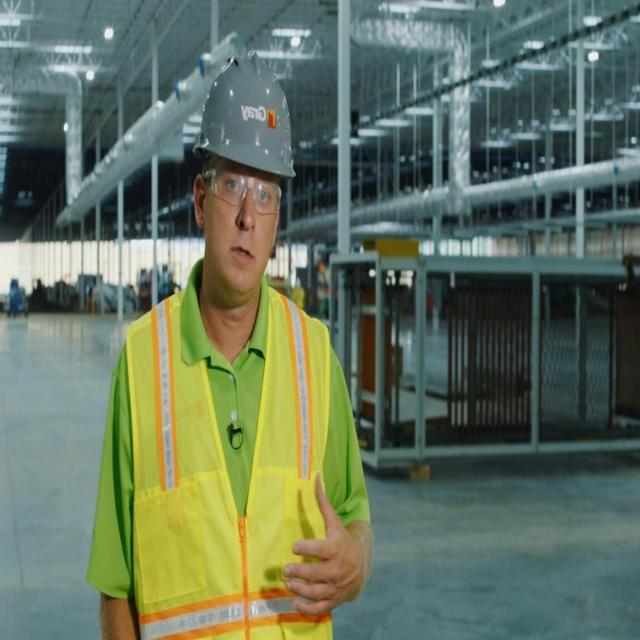reflective_jacket: (122, 284, 335, 638)
safety_helmet: (190, 48, 299, 185)
